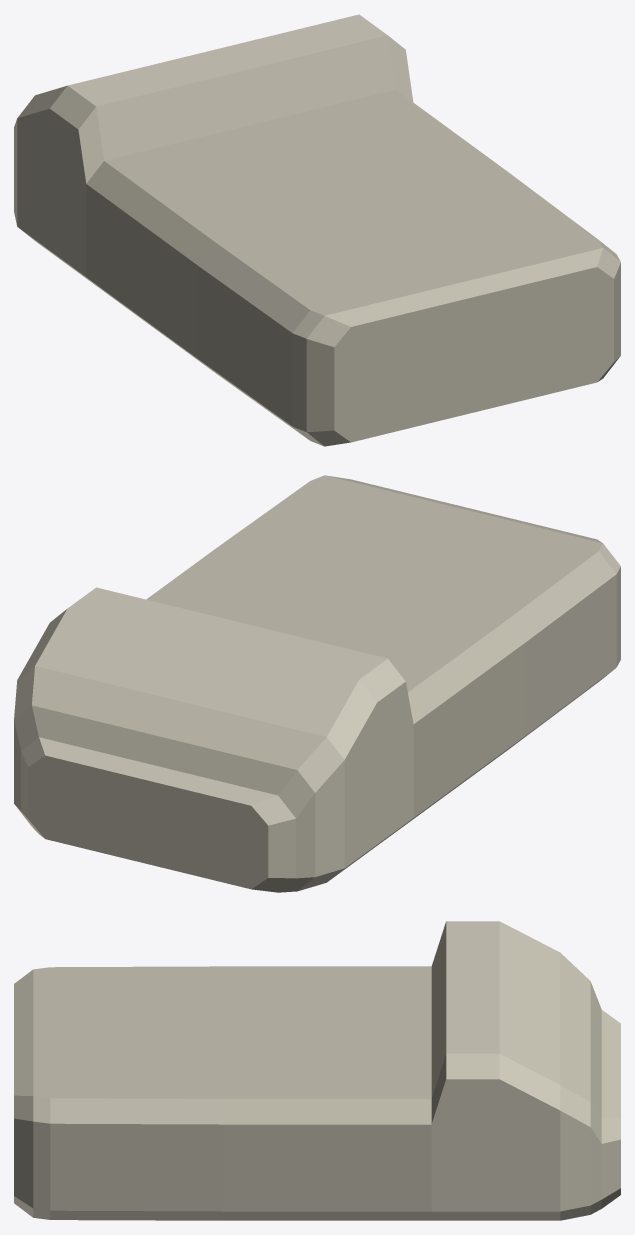
The model's file is durham_light_a.glb.
The picture shows the model from 3 angles, top to bottom: view 1: azimuth 30°, elevation 25°; view 2: azimuth 150°, elevation 25°; view 3: azimuth 270°, elevation 25°; orthographic projection. The views are drawn at different scales.
Parts seen in each view (by area): view 1: durham_light_a; view 2: durham_light_a; view 3: durham_light_a.
Boxes of the visible parts, <box> form: durham_light_a: <box>14,14,620,446</box>; durham_light_a: <box>14,475,620,892</box>; durham_light_a: <box>14,921,620,1220</box>.
Bounding box in the file's own units: 2.9 × 1.52 × 5.
